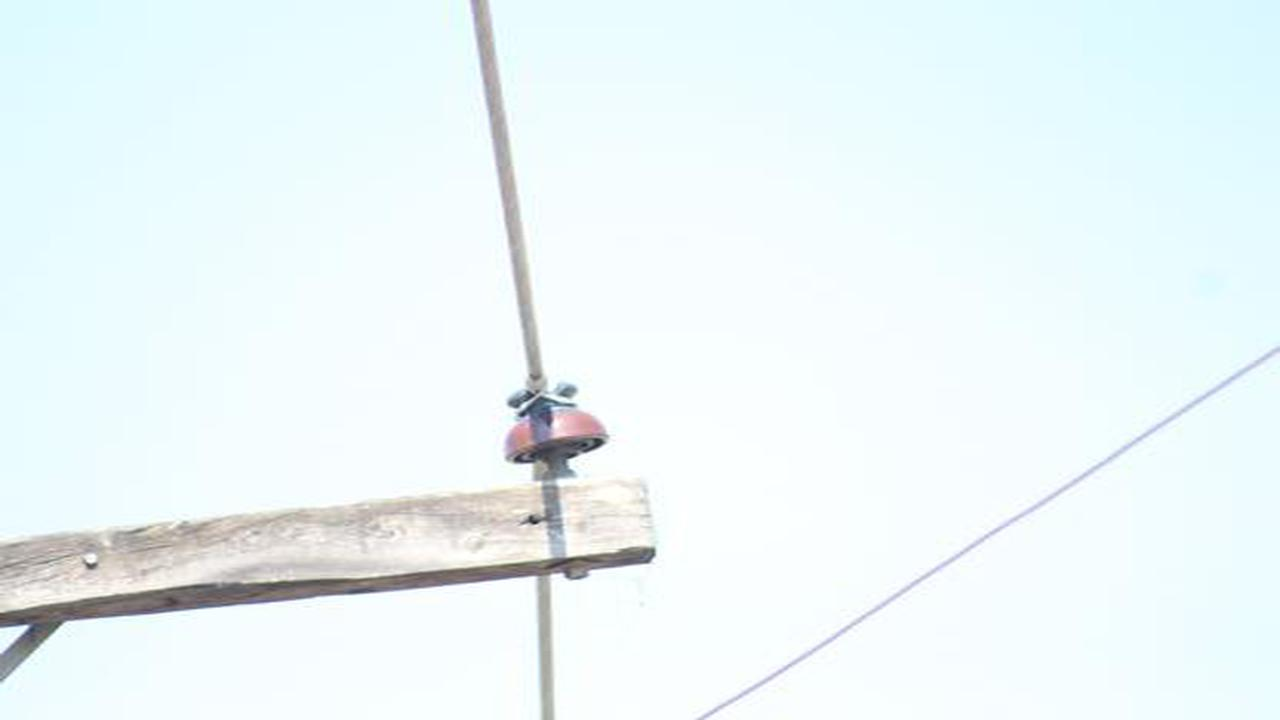insulator_pin: (501, 380, 612, 472)
